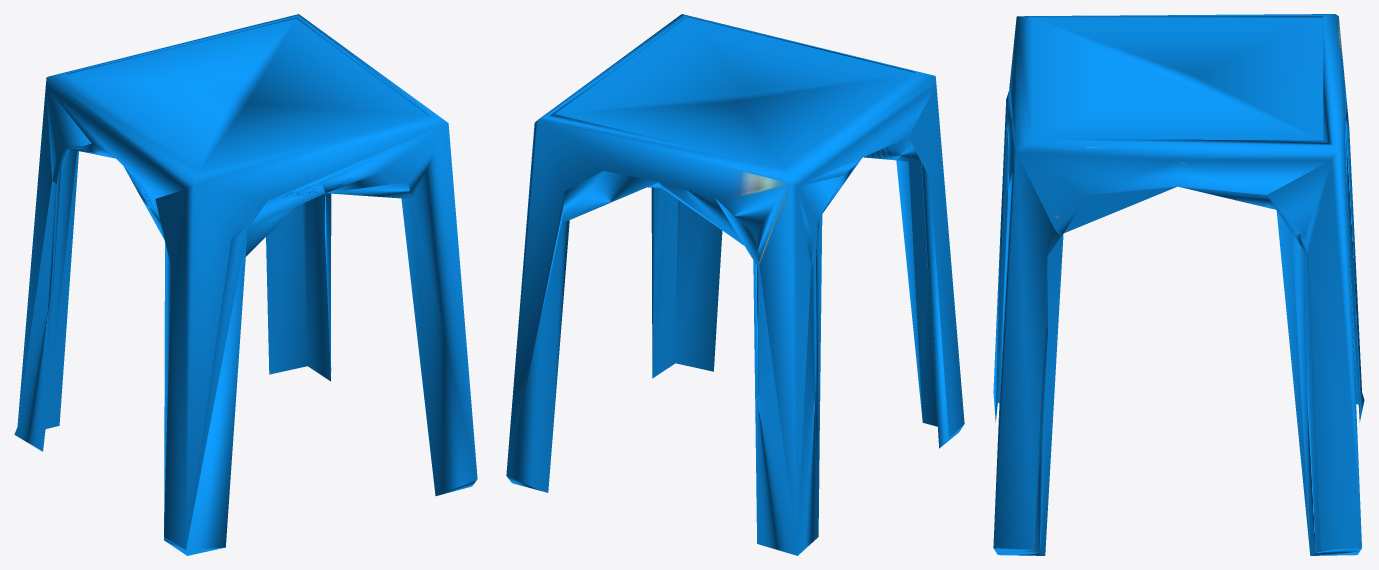
The model's file is ghe-xanh.glb.
3 renders of one model, left to right at view 1: azimuth 30°, elevation 25°; view 2: azimuth 150°, elevation 25°; view 3: azimuth 270°, elevation 25°, orthographic. The views are drawn at different scales.
Visible parts, largest first — view 1: g; view 2: g; view 3: g.
Part boxes in pixels (box(x1,y1,x2,y2)): g: box(14, 14, 477, 555); g: box(506, 14, 964, 555); g: box(993, 14, 1364, 555).
Size of the model in its own units: 0.8507 by 1 by 0.838.
1 material, 1 textured.
